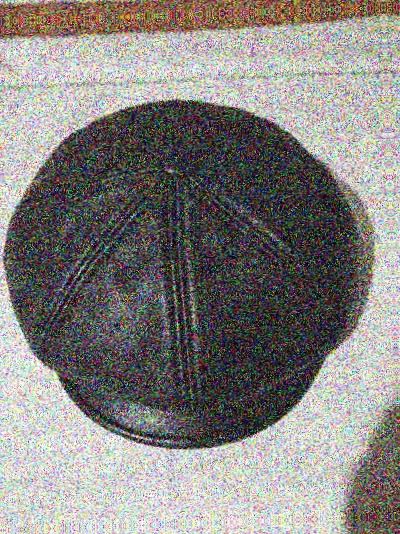Hat: (0, 67, 372, 456)
